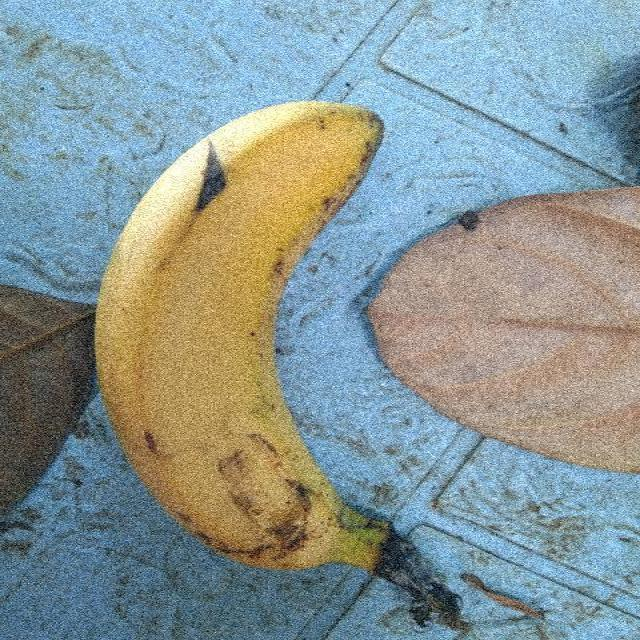Muito Madura: (88, 92, 390, 588)
